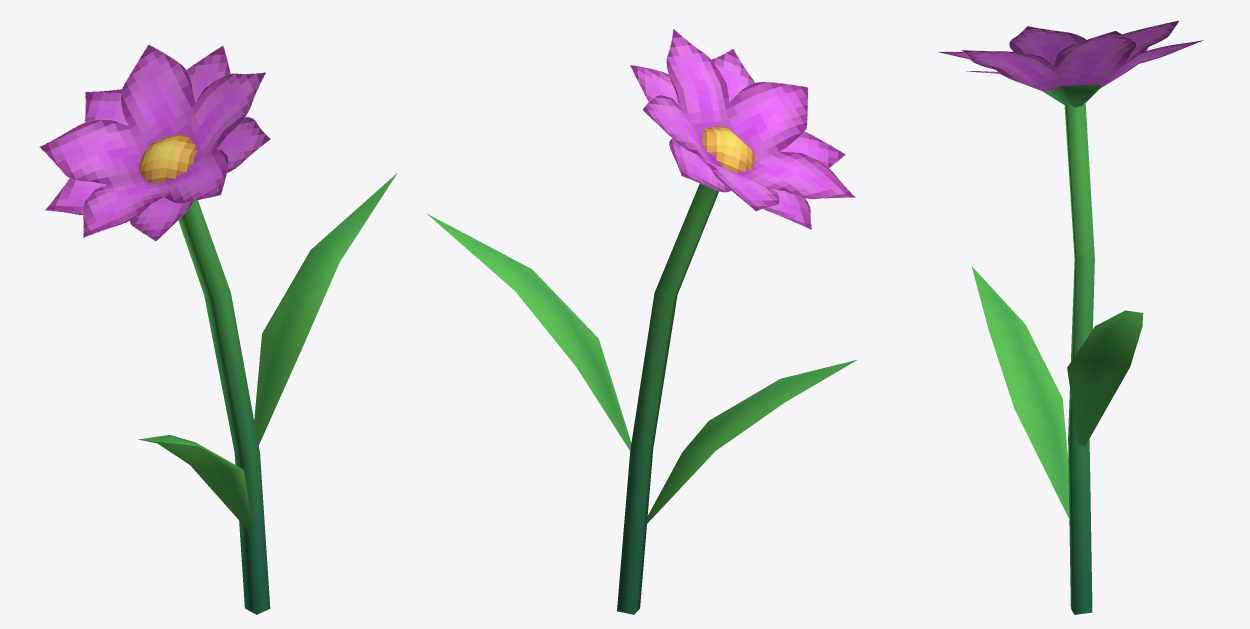
File: Flower_Violet_2.glb
The picture shows the model from 3 angles, left to right: view 1: azimuth 30°, elevation 25°; view 2: azimuth 150°, elevation 25°; view 3: azimuth 270°, elevation 25°; orthographic projection. The views are drawn at different scales.
Visible parts, largest first — view 1: Cone.102, Cube.086, object6.075, Cone.103, object6.076, Cone.101; view 2: Cone.102, Cube.086, object6.075, Cone.103, object6.076, Cone.101; view 3: Cube.086, object6.076, Cone.103, object6.075, Cone.102, Cone.104.
Boxes of the visible parts, <box> form: Cone.102: <box>39,44,265,237</box>; Cube.086: <box>178,200,270,614</box>; object6.075: <box>254,173,397,445</box>; Cone.103: <box>45,46,270,241</box>; object6.076: <box>138,435,253,531</box>; Cone.101: <box>138,133,197,184</box>; Cone.102: <box>642,29,855,211</box>; Cube.086: <box>617,164,718,614</box>; object6.075: <box>426,213,631,450</box>; Cone.103: <box>630,49,845,229</box>; object6.076: <box>645,359,857,524</box>; Cone.101: <box>702,126,754,173</box>; Cube.086: <box>1064,102,1094,614</box>; object6.076: <box>971,266,1069,519</box>; Cone.103: <box>962,31,1204,91</box>; object6.075: <box>1067,310,1143,446</box>; Cone.102: <box>938,20,1179,64</box>; Cone.104: <box>1043,84,1099,107</box>.
Size of the model in its own units: 0.471 by 0.662 by 0.332.
Materials: 4 (4 with a texture image).
